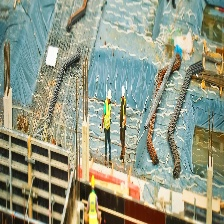person: (101, 87, 115, 174), (120, 81, 127, 172)
